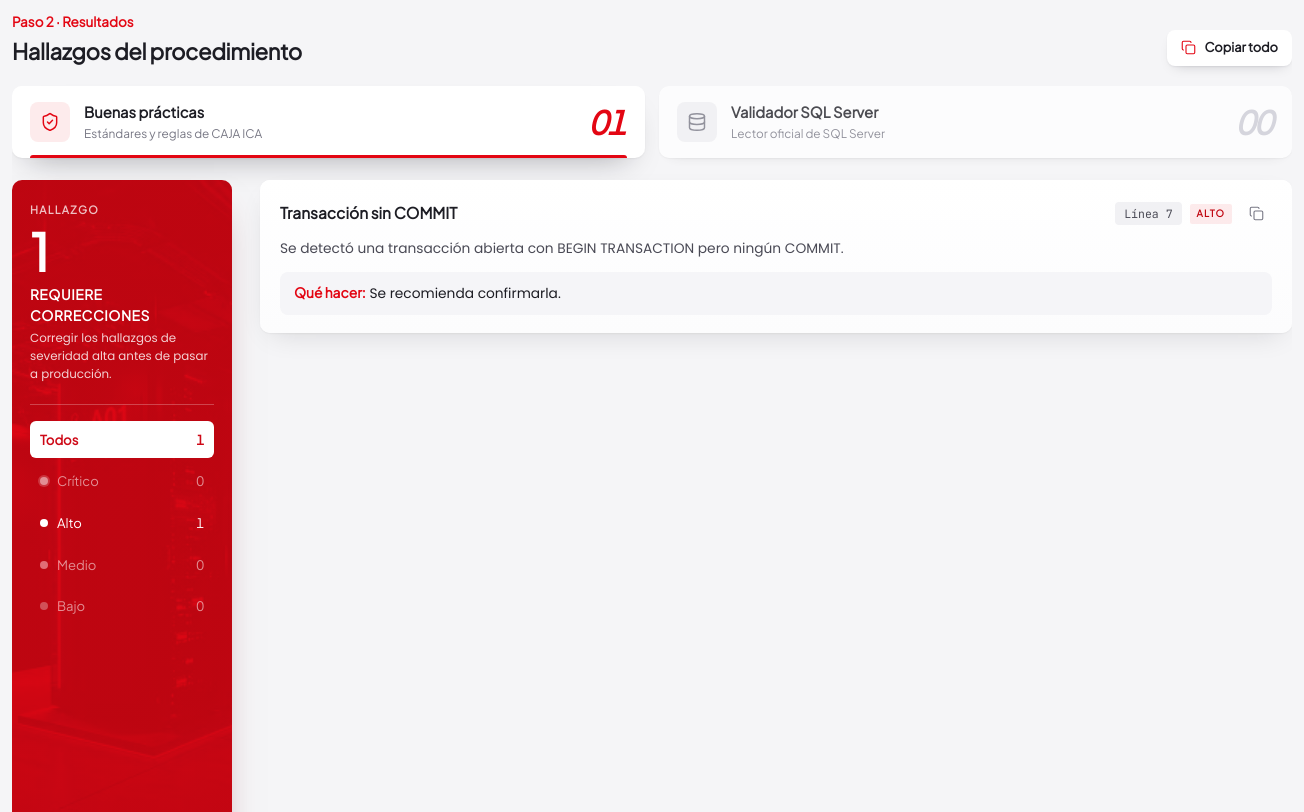
it: PanelHallazgos · pestañas «Buenas prácticas» y «Validador SQL Server» › sin observaciones del validador lo dice, y en Tablas y Diccionarios explica el alcance
Click the tab "Validador SQL Server Lector oficial de SQL Server 00": [697, 122] box [659,86,1292,158]
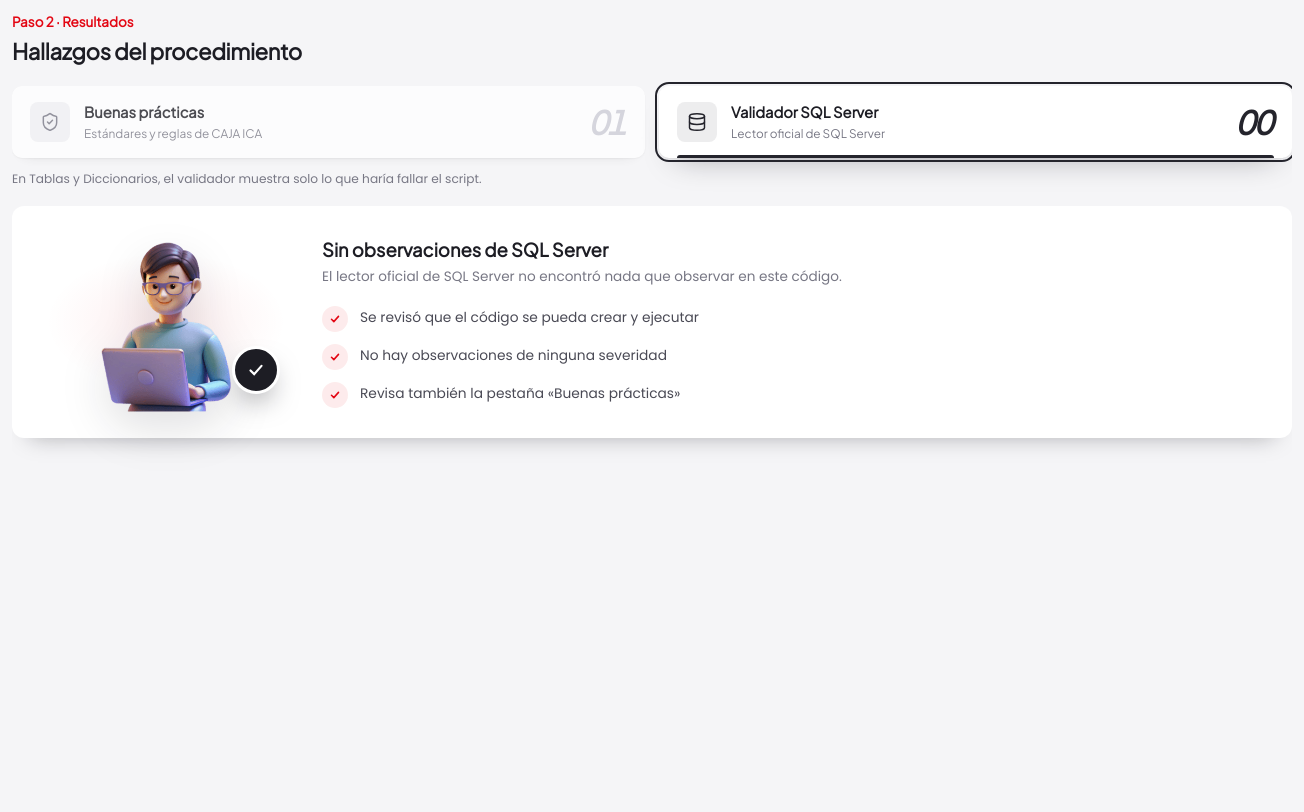
Now the text "Sin observaciones de SQL Server" is shown, box [322,238,608,261]
Now the text "solo lo que haría fallar el script" is shown, box [12,170,482,186]
Now the list item "Se revisó que el código se pueda crear y ejecutar" is shown, box [322,306,699,332]
